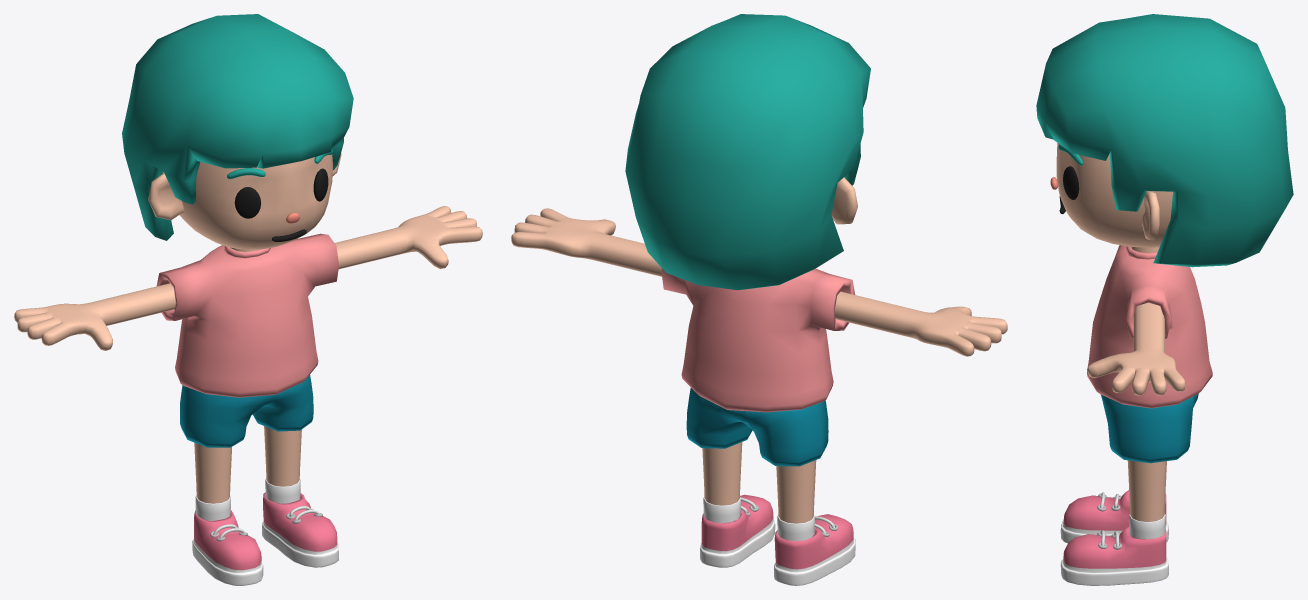
File: nova.fbx
3 renders of one model, left to right at view 1: azimuth 30°, elevation 25°; view 2: azimuth 150°, elevation 25°; view 3: azimuth 270°, elevation 25°, orthographic. The views are drawn at different scales.
Parts seen in each view (by area): view 1: Hair, Tshirt, Head, shorts, Hand_R, Hand_L, Shoe_L, Shoe_R, Leg_R, Leg_L, Eye_R, sock_L (+1 smaller); view 2: Hair, Tshirt, shorts, Hand_R, Hand_L, Shoe_R, Shoe_L, Leg_R, Leg_L, Head, sock_R, sock_L; view 3: Hair, Tshirt, Head, Shoe_L, shorts, Hand_L, Shoe_R, Leg_L, sock_L, Eye_L.
Boxes of the visible parts, bbox=[...] form: Hair: bbox=[122, 14, 353, 240]; Tshirt: bbox=[156, 233, 338, 397]; Head: bbox=[148, 153, 341, 251]; shorts: bbox=[180, 375, 313, 447]; Hand_R: bbox=[14, 283, 175, 350]; Hand_L: bbox=[335, 206, 482, 269]; Shoe_L: bbox=[262, 492, 338, 567]; Shoe_R: bbox=[192, 510, 263, 585]; Leg_R: bbox=[194, 442, 231, 503]; Leg_L: bbox=[264, 426, 301, 486]; Eye_R: bbox=[234, 187, 261, 218]; sock_L: bbox=[265, 478, 300, 503]; Hair: bbox=[625, 14, 870, 290]; Tshirt: bbox=[661, 268, 855, 412]; shorts: bbox=[686, 388, 828, 466]; Hand_R: bbox=[834, 291, 1007, 356]; Hand_L: bbox=[511, 208, 661, 276]; Shoe_R: bbox=[774, 514, 855, 585]; Shoe_L: bbox=[700, 494, 775, 567]; Leg_R: bbox=[776, 460, 816, 523]; Leg_L: bbox=[702, 442, 742, 505]; Head: bbox=[831, 177, 857, 224]; sock_R: bbox=[777, 515, 814, 541]; sock_L: bbox=[703, 497, 740, 523]; Hair: bbox=[1036, 14, 1293, 267]; Tshirt: bbox=[1087, 245, 1212, 408]; Head: bbox=[1050, 143, 1172, 252]; Shoe_L: bbox=[1060, 526, 1168, 585]; shorts: bbox=[1100, 393, 1198, 463]; Hand_L: bbox=[1087, 302, 1185, 395]; Shoe_R: bbox=[1060, 490, 1168, 543]; Leg_L: bbox=[1127, 460, 1166, 521]; sock_L: bbox=[1129, 513, 1165, 539]; Eye_L: bbox=[1063, 166, 1079, 199].
Size of the model in its own units: 119 by 130 by 57.25.
